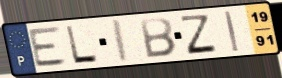B: (138, 16, 178, 59)
E: (27, 25, 70, 70)
I: (112, 18, 131, 65), (223, 10, 241, 54)
L: (63, 24, 101, 65)
Z: (179, 14, 219, 56)
